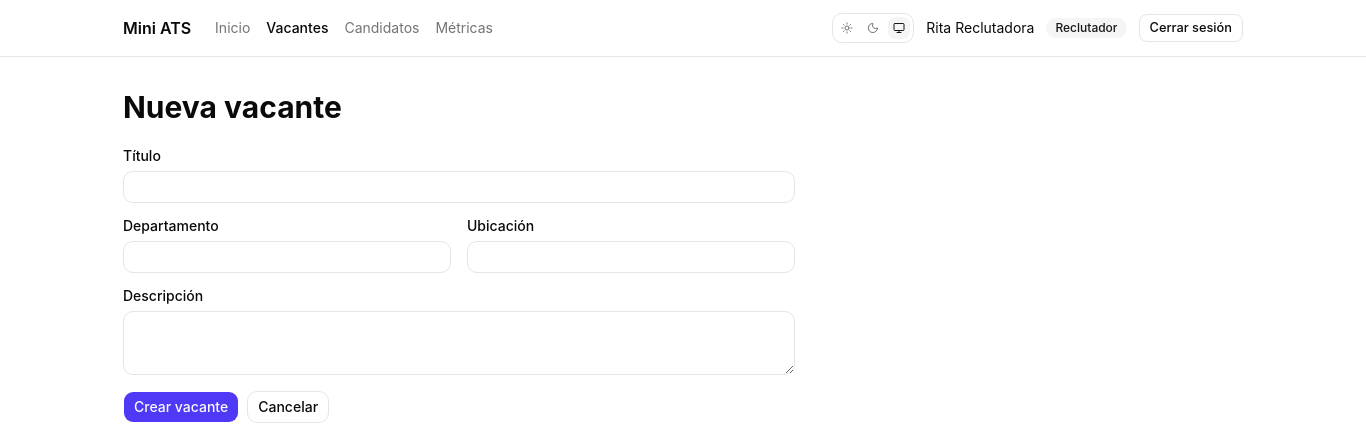
Test: job form › creates a job, shows a toast and goes back to the list
In the field labelled "Título": (459, 187) [123,171,795,203], type " QA Tester "
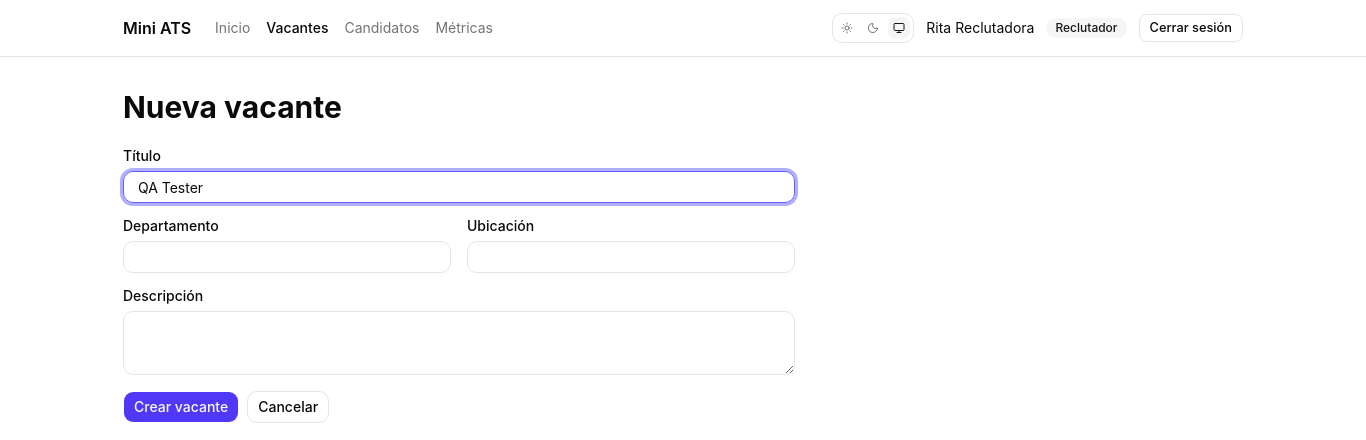
In the field labelled "Departamento": (287, 257) [123,241,451,273], type "Calidad"
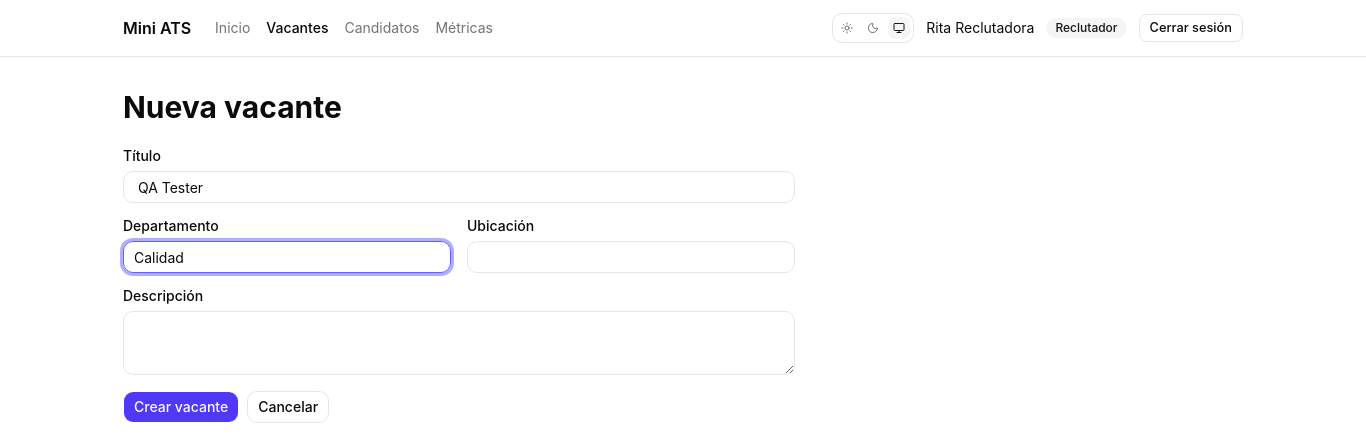
In the text box labelled "Descripción": (459, 343) [123,311,795,375], type "Pruebas manuales"
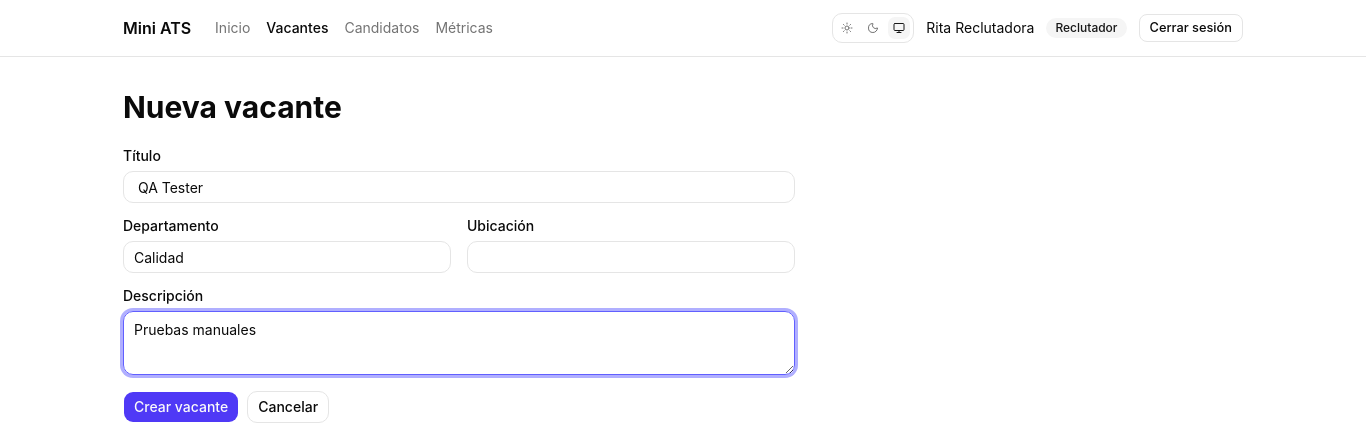
Click the button "Crear vacante": (181, 407) [123,391,239,423]
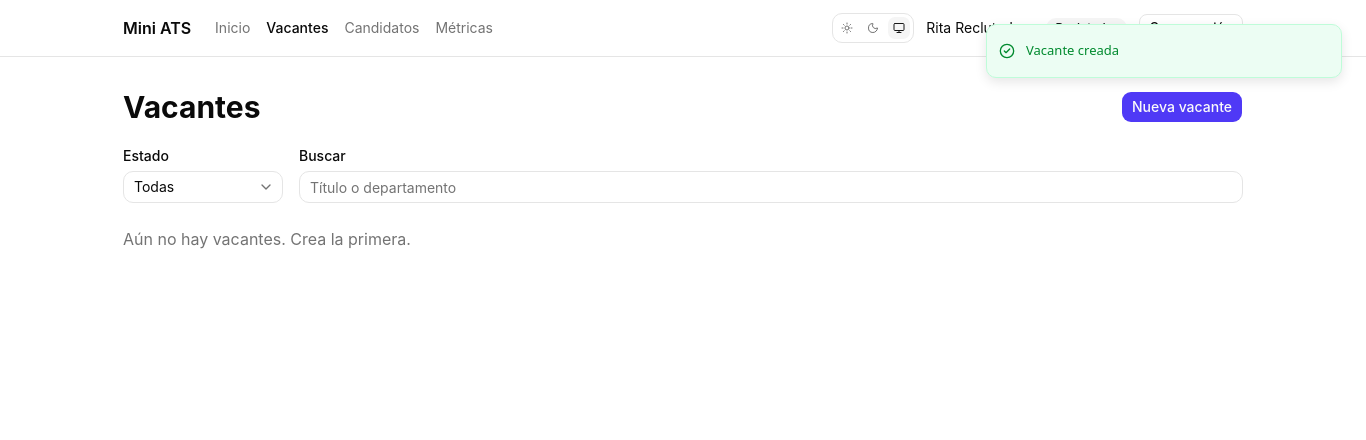
Result: the text "Vacante creada" is shown at [1026,41,1119,60]
